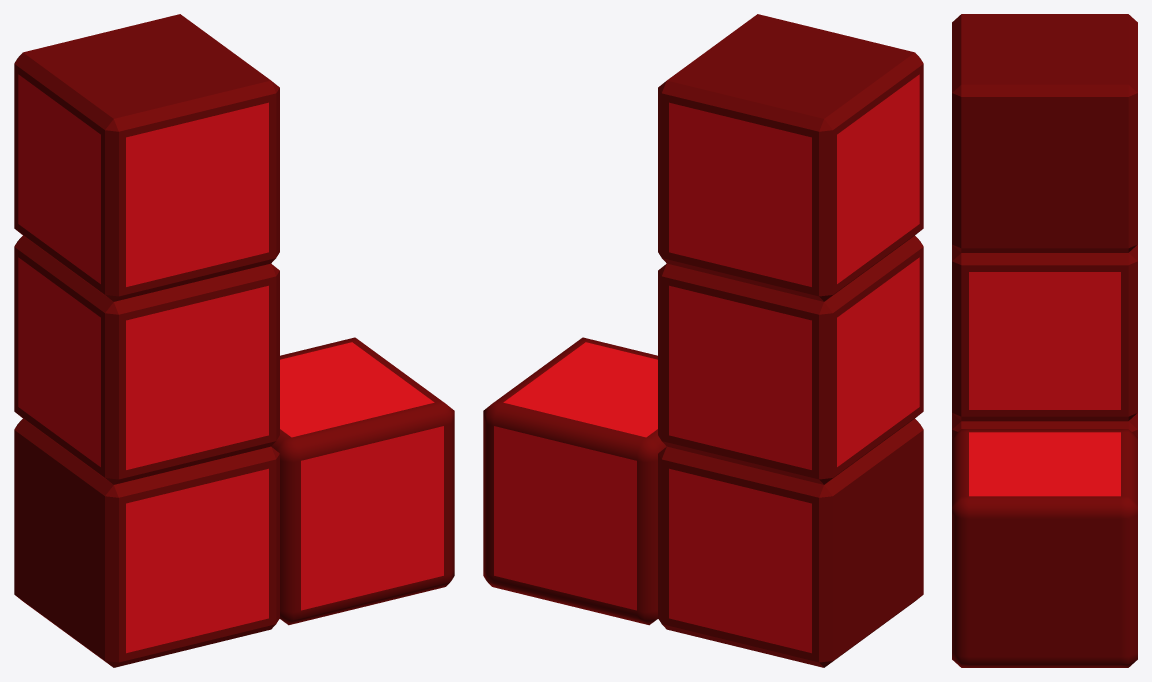
The model's file is fig3_color.obj.
3 renders of one model, left to right at view 1: azimuth 30°, elevation 25°; view 2: azimuth 150°, elevation 25°; view 3: azimuth 270°, elevation 25°, orthographic. The views are drawn at different scales.
Parts seen in each view (by area): view 1: Cube, Cube.001, Cube.003, Cube.002; view 2: Cube, Cube.001, Cube.003, Cube.002; view 3: Cube, Cube.002, Cube.001, Cube.003.
Part boxes in pixels (x1,y1,x2,y2): Cube: [14, 14, 279, 301]; Cube.001: [14, 236, 279, 484]; Cube.003: [14, 419, 279, 667]; Cube.002: [271, 337, 454, 625]; Cube: [658, 14, 923, 301]; Cube.001: [658, 236, 923, 484]; Cube.003: [658, 419, 923, 667]; Cube.002: [483, 337, 666, 625]; Cube: [952, 14, 1137, 252]; Cube.002: [952, 429, 1137, 667]; Cube.001: [952, 244, 1137, 421]; Cube.003: [952, 413, 1137, 437].
Bounding box in the file's own units: 4 × 6 × 2.
